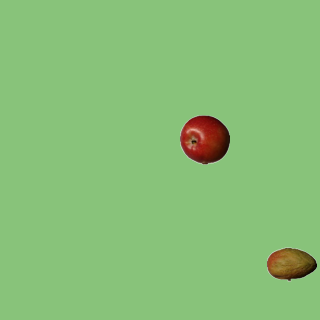Apple Braeburn: (179, 114, 229, 164)
Papaya: (266, 239, 316, 289)
